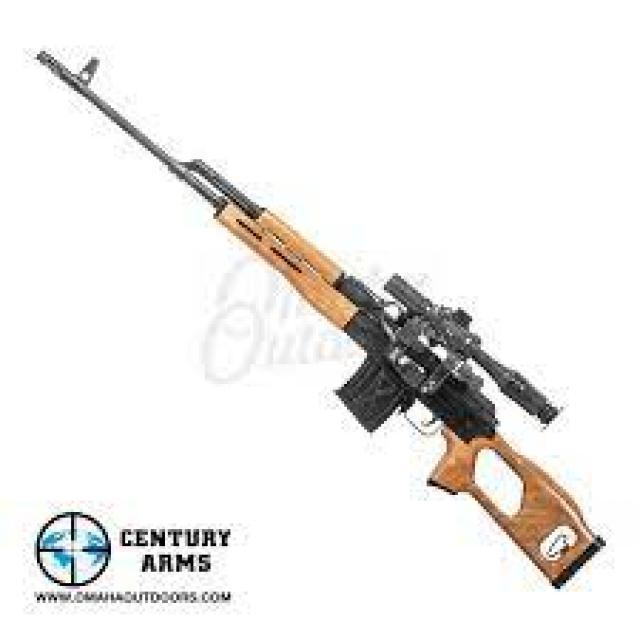weapon: (36, 51, 610, 594)
